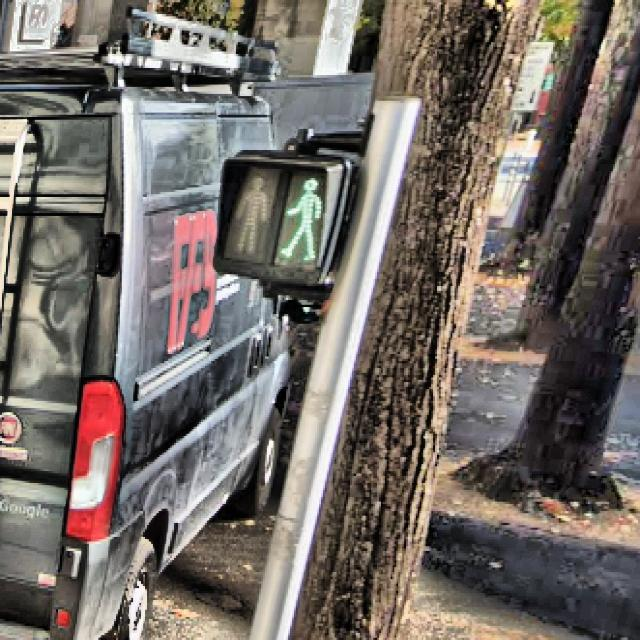green_light: (274, 168, 324, 264)
